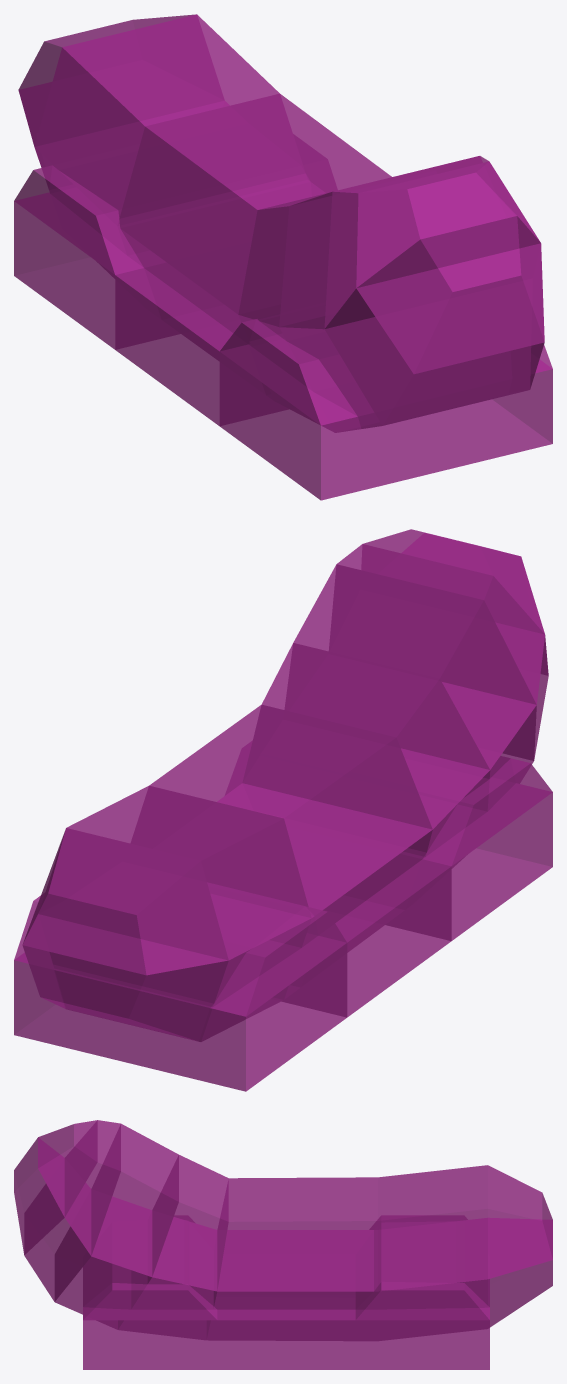
Rendered from SM_Veh_Hot_Dog_Cart_01_Collision.fbx.
3 views of the same model, one above another, from view 1: azimuth 30°, elevation 25°; view 2: azimuth 150°, elevation 25°; view 3: azimuth 270°, elevation 25° (orthographic). The views are drawn at different scales.
Visible parts, largest first — view 1: SM_Veh_Hot_Dog_Cart_01_Collision; view 2: SM_Veh_Hot_Dog_Cart_01_Collision; view 3: SM_Veh_Hot_Dog_Cart_01_Collision.
Boxes of the visible parts, left/top/right/bottom form: SM_Veh_Hot_Dog_Cart_01_Collision: left=14, top=14, right=552, bottom=500; SM_Veh_Hot_Dog_Cart_01_Collision: left=14, top=529, right=552, bottom=1091; SM_Veh_Hot_Dog_Cart_01_Collision: left=14, top=1120, right=552, bottom=1369.
Bounding box in the file's own units: 299 × 365 × 906.
